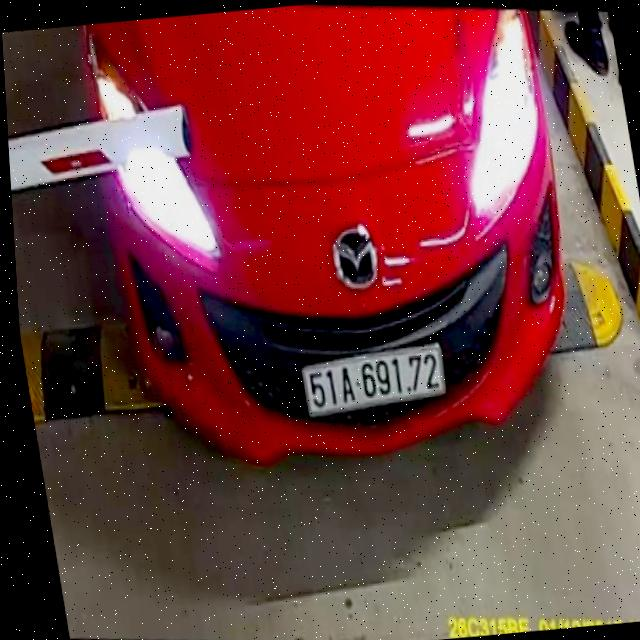car: (66, 1, 604, 483)
plate: (296, 341, 452, 423)
